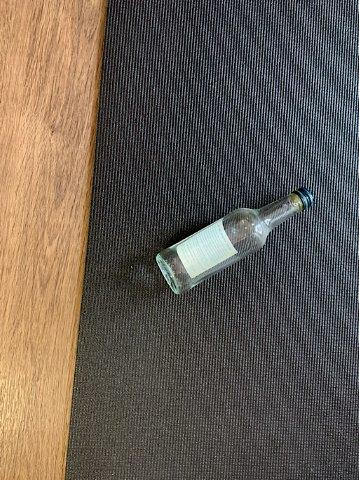botolkaca: (156, 190, 313, 292)
